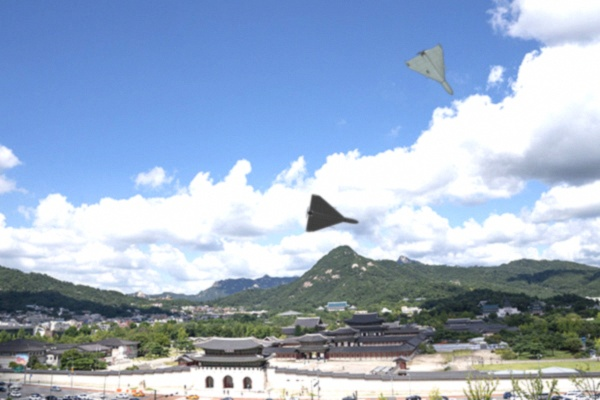shahed: (403, 41, 455, 96), (303, 191, 359, 233)
